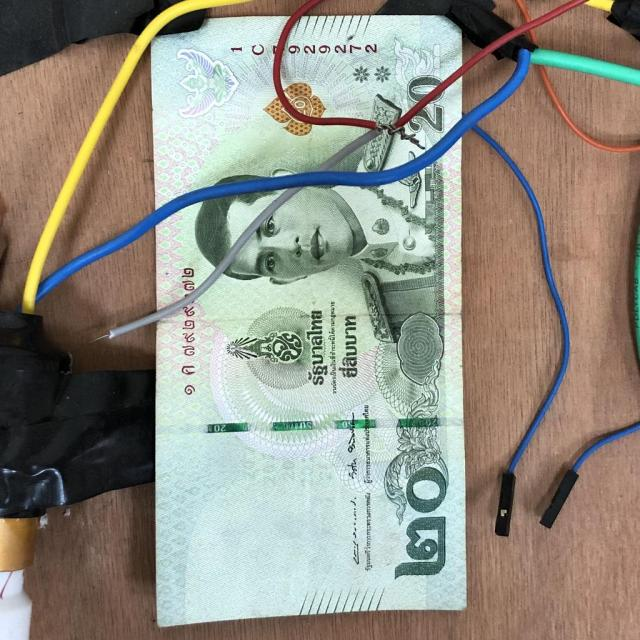THAI20: (156, 144, 466, 626), (152, 17, 367, 206), (282, 16, 462, 122), (156, 191, 278, 309)
